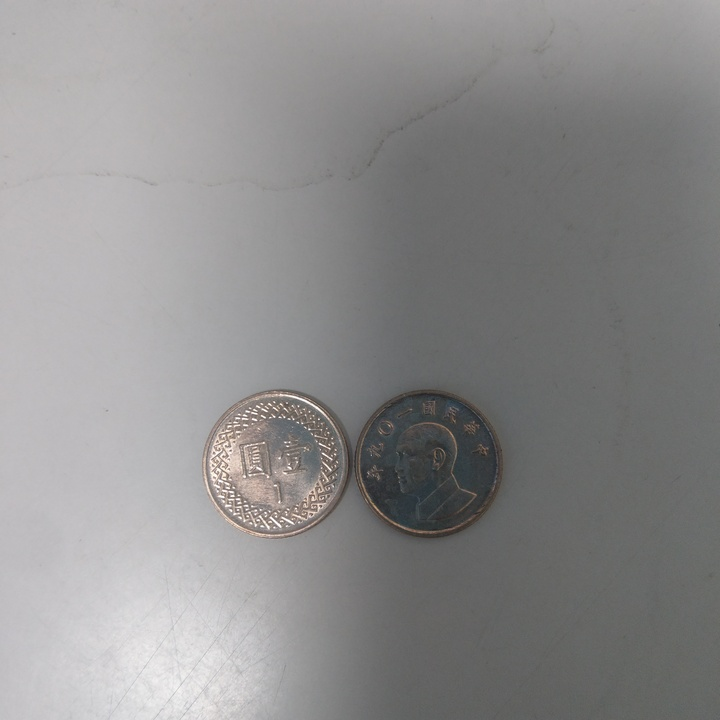1 dollar: (196, 388, 354, 543), (353, 388, 504, 539)
